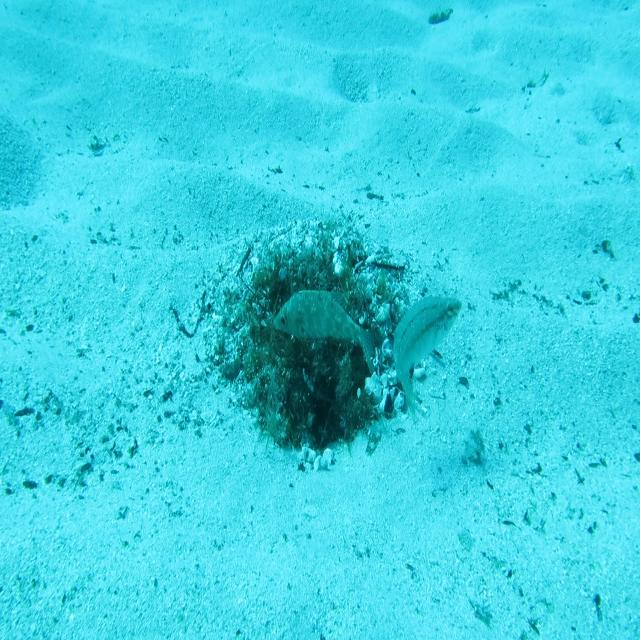NIP_IN: (272, 286, 376, 374)
core_nest: (281, 278, 334, 312)
female: (392, 294, 463, 419)
nest: (198, 210, 432, 483)
vegetation: (426, 8, 453, 30)
